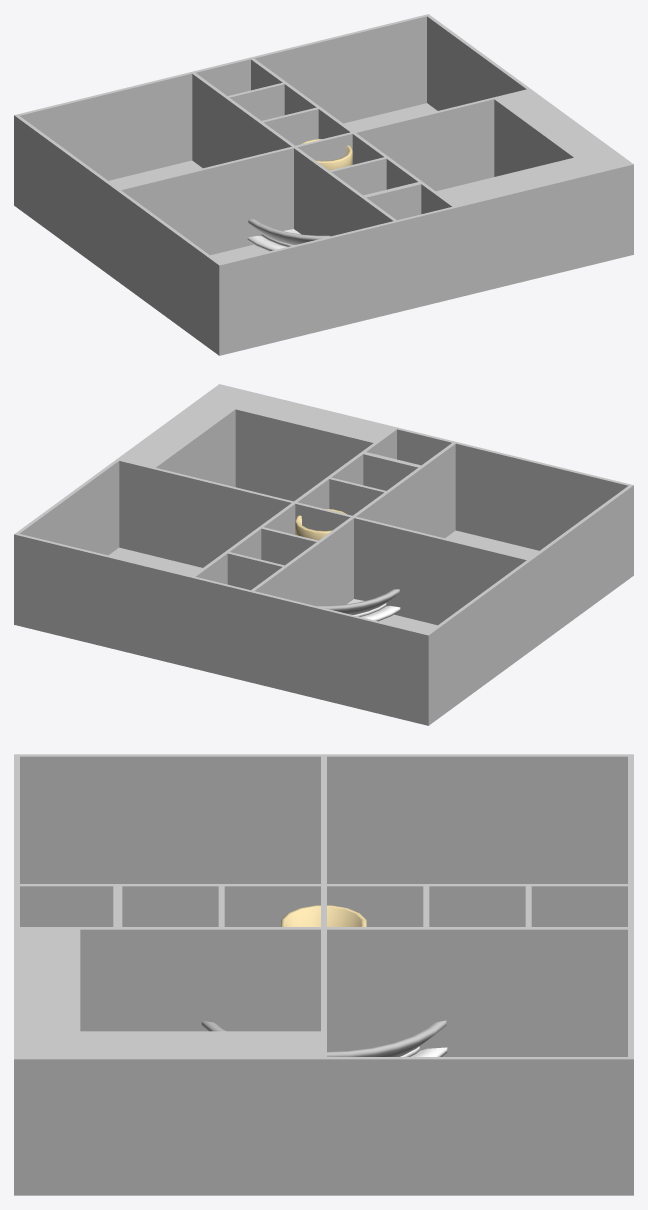
File: set de 6 puestos.dae
The picture shows the model from 3 angles, top to bottom: view 1: azimuth 30°, elevation 25°; view 2: azimuth 150°, elevation 25°; view 3: azimuth 270°, elevation 25°; orthographic projection. The views are drawn at different scales.
Parts seen in each view (by area): view 1: caja, plato_hondo; view 2: caja, plato_hondo; view 3: caja, plato_hondo, vaso.
Part boxes in pixels (x1,y1,x2,y2): caja: [14, 14, 633, 355]; plato_hondo: [248, 219, 330, 244]; caja: [14, 384, 633, 725]; plato_hondo: [317, 589, 399, 614]; caja: [14, 754, 633, 1195]; plato_hondo: [201, 1020, 446, 1056]; vaso: [281, 905, 366, 926].
Bounding box in the file's own units: 60 × 51.5 × 12.5.
